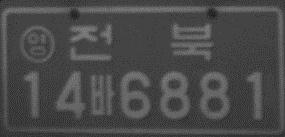1: (19, 69, 53, 118), (240, 70, 272, 121)
4: (55, 71, 85, 119)
6: (118, 70, 151, 121)
8: (198, 70, 230, 120), (159, 69, 190, 120)
바: (89, 73, 114, 117)
영: (19, 24, 55, 64)
전북_D: (67, 23, 213, 62)
